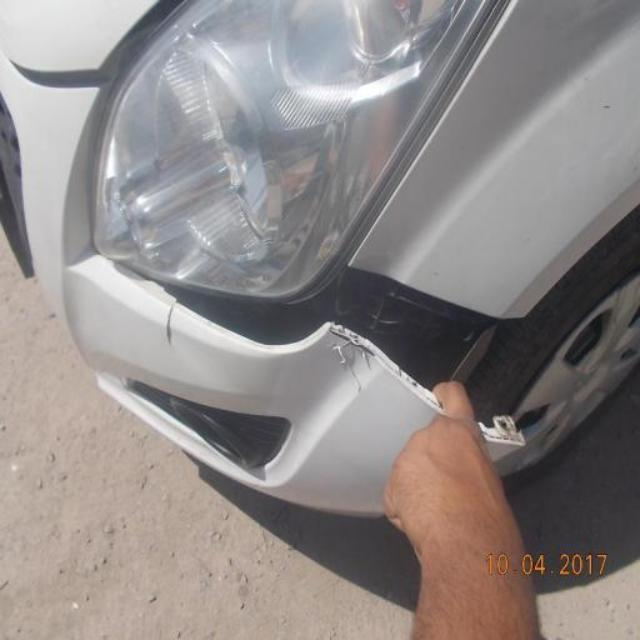crack: (159, 298, 178, 356)
dislocated part: (92, 260, 529, 444)
